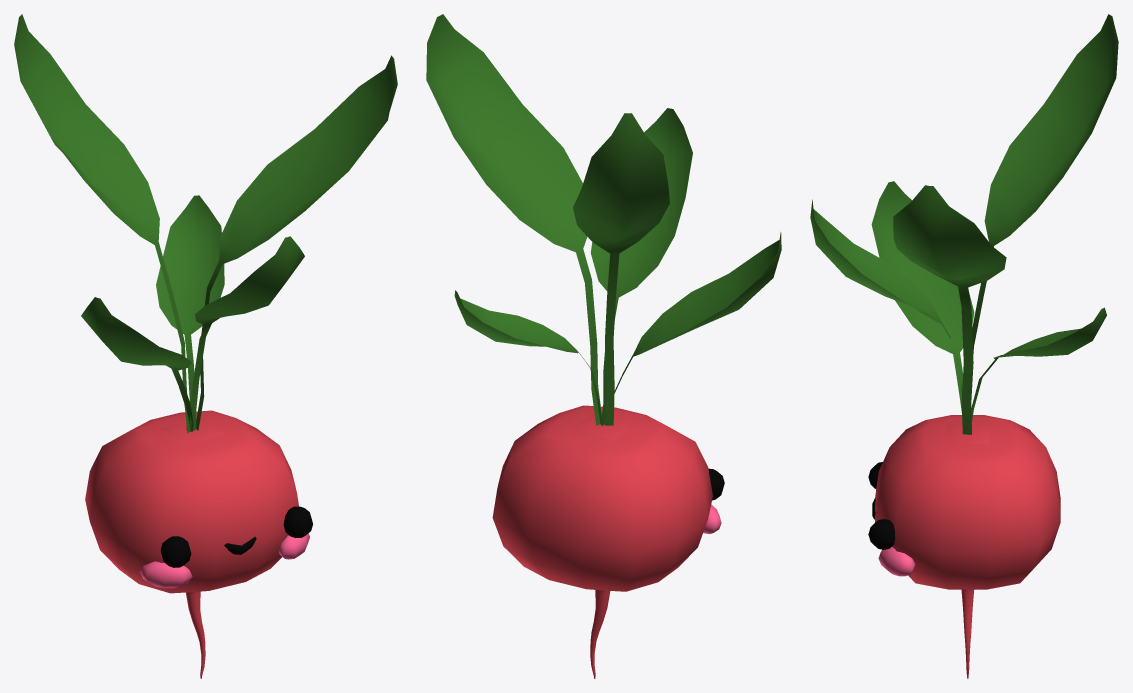
The model's file is Radish(smiling).fbx.
3 views of the same model, side by side, from view 1: azimuth 30°, elevation 25°; view 2: azimuth 150°, elevation 25°; view 3: azimuth 270°, elevation 25° (orthographic). The views are drawn at different scales.
Parts seen in each view (by area): view 1: Radish(smiling); view 2: Radish(smiling); view 3: Radish(smiling).
Part boxes in pixels (left/top/right/bottom): Radish(smiling): left=14, top=14, right=397, bottom=678; Radish(smiling): left=426, top=14, right=781, bottom=678; Radish(smiling): left=810, top=14, right=1118, bottom=678.
Size of the model in its own units: 114 by 215 by 97.69.
